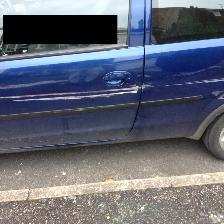scrach: (0, 73, 224, 112)
